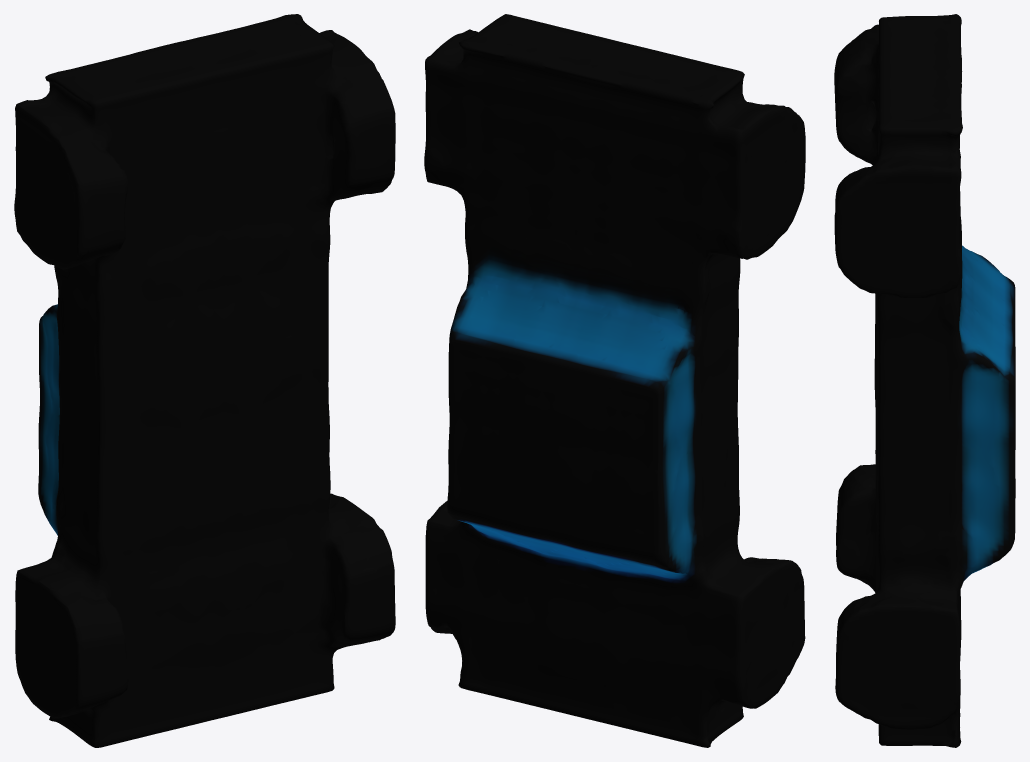
The picture shows the model from 3 angles, left to right: view 1: azimuth 30°, elevation 25°; view 2: azimuth 150°, elevation 25°; view 3: azimuth 270°, elevation 25°; orthographic projection. The views are drawn at different scales.
Parts seen in each view (by area): view 1: plyFile; view 2: plyFile; view 3: plyFile.
Part boxes in pixels (left/top/right/bottom): plyFile: left=14, top=14, right=395, bottom=747; plyFile: left=424, top=14, right=805, bottom=747; plyFile: left=834, top=14, right=1015, bottom=747.
Size of the model in its own units: 102 by 198 by 52.69.
